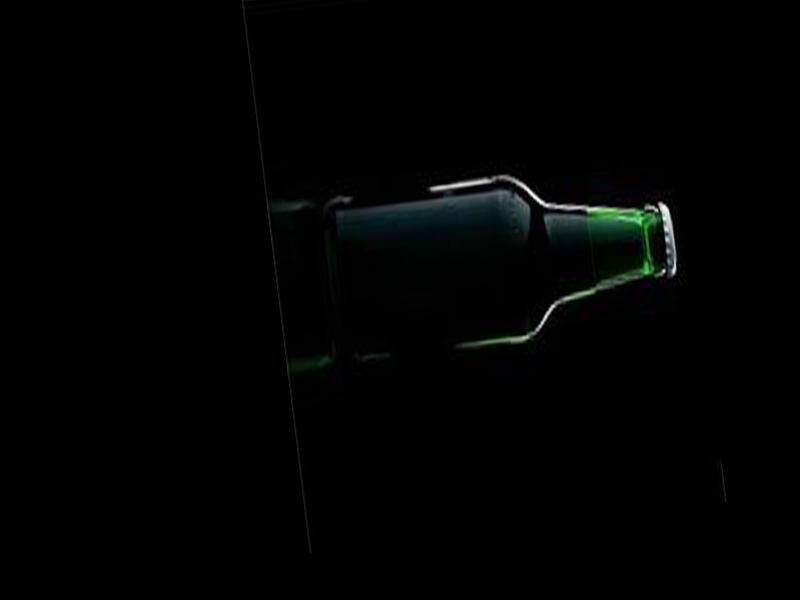Beer: (324, 148, 685, 363)
